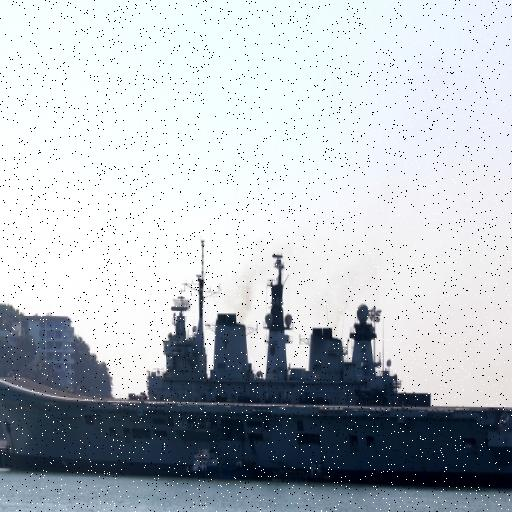Portanaves: (1, 230, 512, 499)
